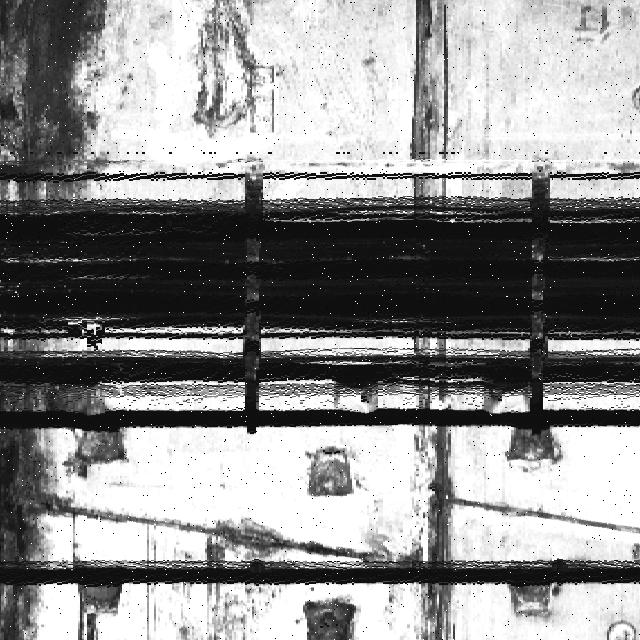leakage: (0, 0, 105, 203), (403, 414, 467, 639), (0, 386, 49, 636), (402, 0, 456, 210)
